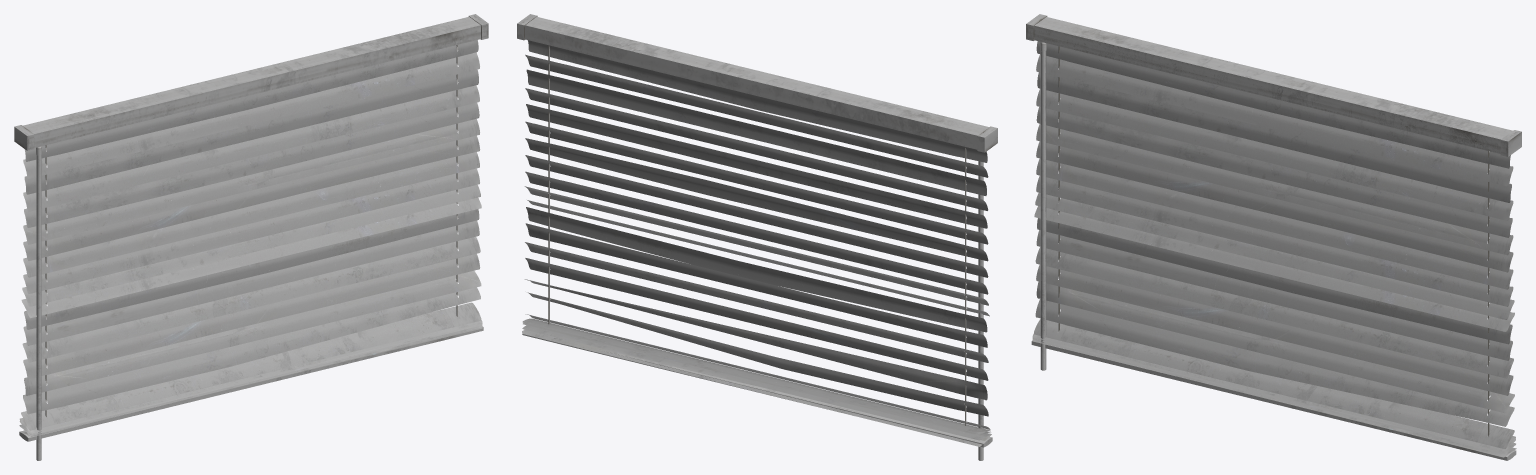
Rendered from SM_Blinds_01a.fbx.
The picture shows the model from 3 angles, left to right: view 1: azimuth 30°, elevation 25°; view 2: azimuth 150°, elevation 25°; view 3: azimuth 330°, elevation 25°; orthographic projection. The views are drawn at different scales.
Visible parts, largest first — view 1: SM_Blinds_01a_LOD0; view 2: SM_Blinds_01a_LOD0; view 3: SM_Blinds_01a_LOD0.
Part boxes in pixels (x1,y1,x2,y2): SM_Blinds_01a_LOD0: (14, 14, 488, 460); SM_Blinds_01a_LOD0: (517, 14, 997, 460); SM_Blinds_01a_LOD0: (1026, 14, 1521, 460).
Size of the model in its own units: 150 by 7.41 by 102.
Materials: 1 (1 with a texture image).
